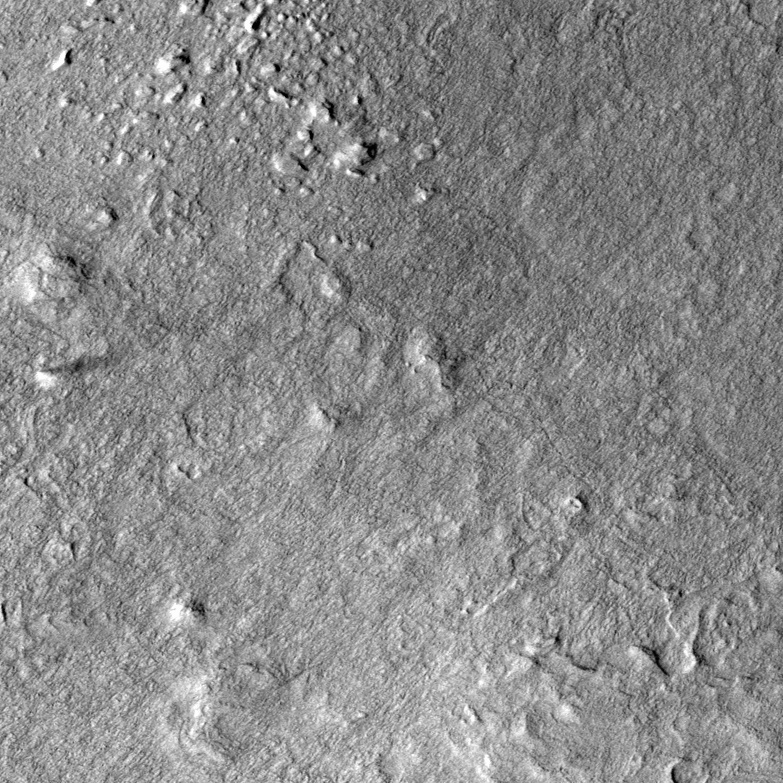dust_devil: (33, 353, 118, 391)
